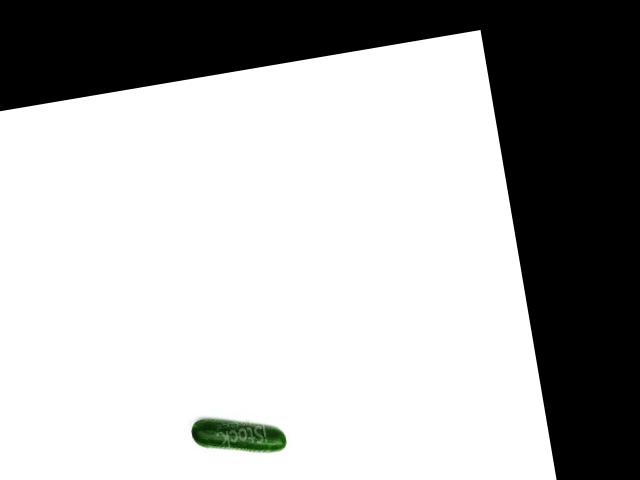cucumber: (188, 406, 287, 464)
